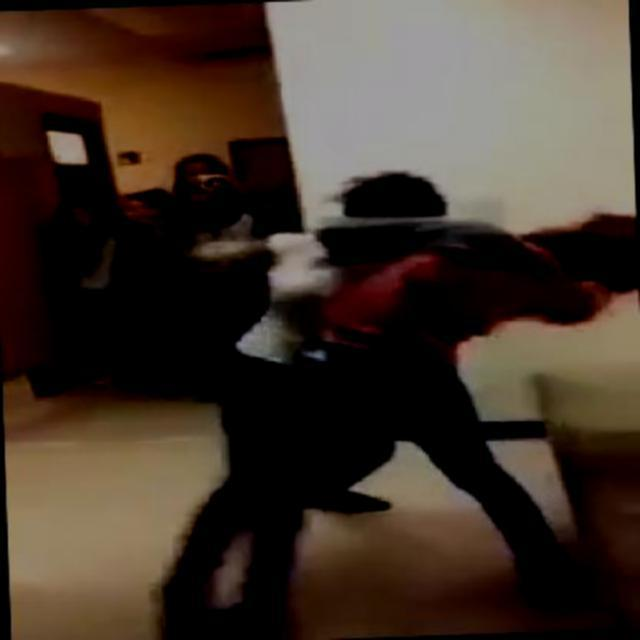fight: (216, 152, 638, 638)
